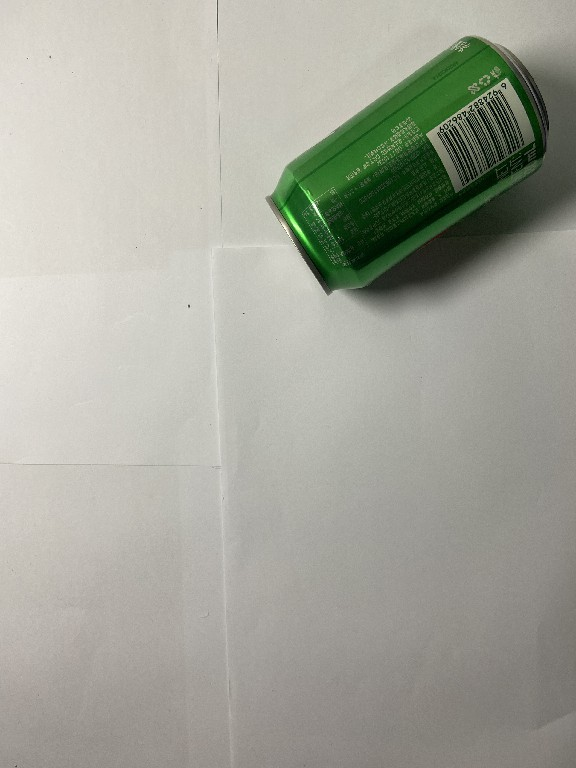can: (259, 30, 555, 301)
